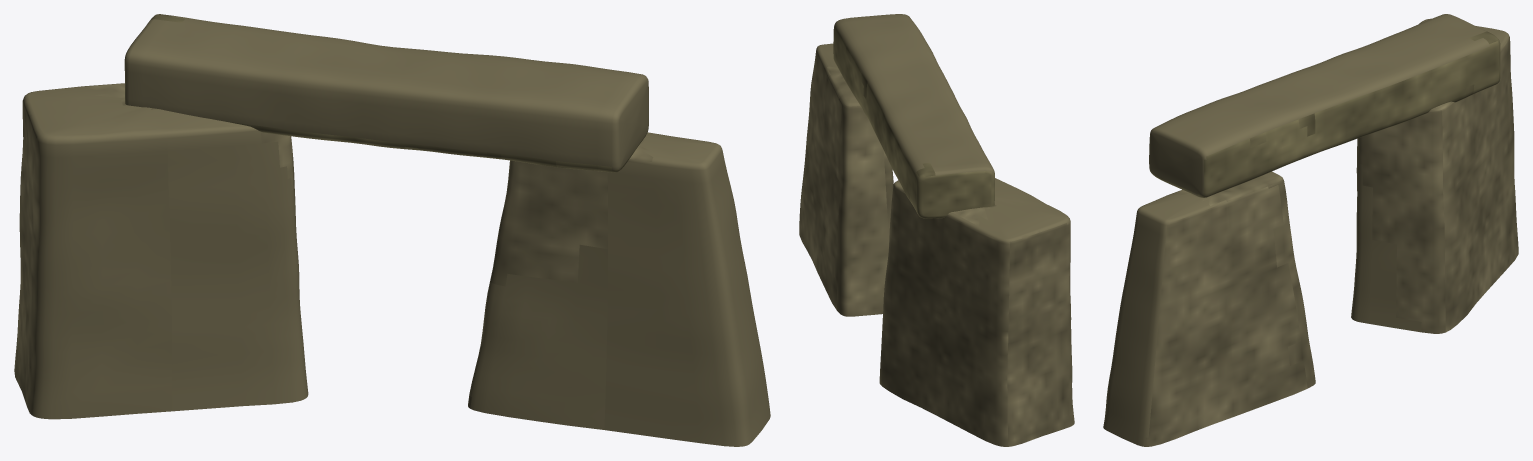
Rendered from ZonHenge03.glb.
3 renders of one model, left to right at view 1: azimuth 30°, elevation 25°; view 2: azimuth 150°, elevation 25°; view 3: azimuth 270°, elevation 25°, orthographic. The views are drawn at different scales.
Visible parts, largest first — view 1: ZonHenge03; view 2: ZonHenge03; view 3: ZonHenge03.
Boxes of the visible parts, left/top/right/bottom form: ZonHenge03: left=14, top=14, right=770, bottom=446; ZonHenge03: left=799, top=14, right=1074, bottom=446; ZonHenge03: left=1103, top=14, right=1518, bottom=446.
Size of the model in its own units: 4.44 by 2.59 by 3.67.
2 materials, 1 textured.
